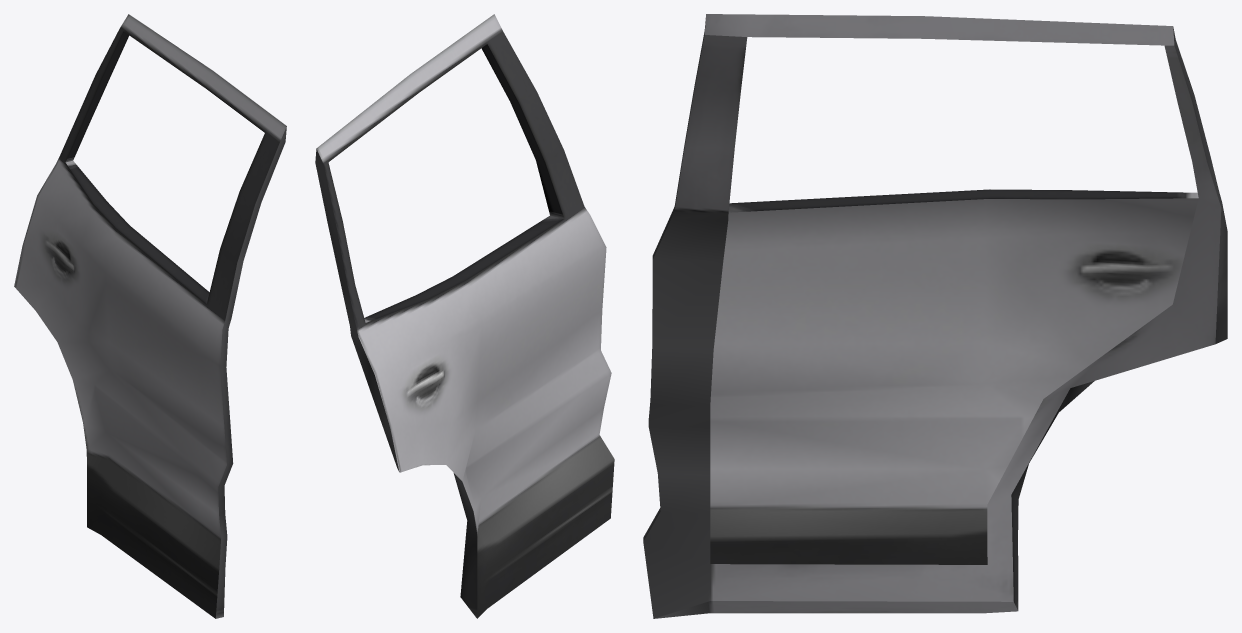
Rendered from 右后门.FBX.
3 views of the same model, side by side, from view 1: azimuth 30°, elevation 25°; view 2: azimuth 150°, elevation 25°; view 3: azimuth 270°, elevation 25° (orthographic). The views are drawn at different scales.
Visible parts, largest first — view 1: 右后门; view 2: 右后门; view 3: 右后门.
Boxes of the visible parts, x1,y1,x2,y2 form: 右后门: (14,14,286,618); 右后门: (315,14,614,618); 右后门: (643,14,1227,618).
Size of the model in its own units: 128 by 583 by 466.
